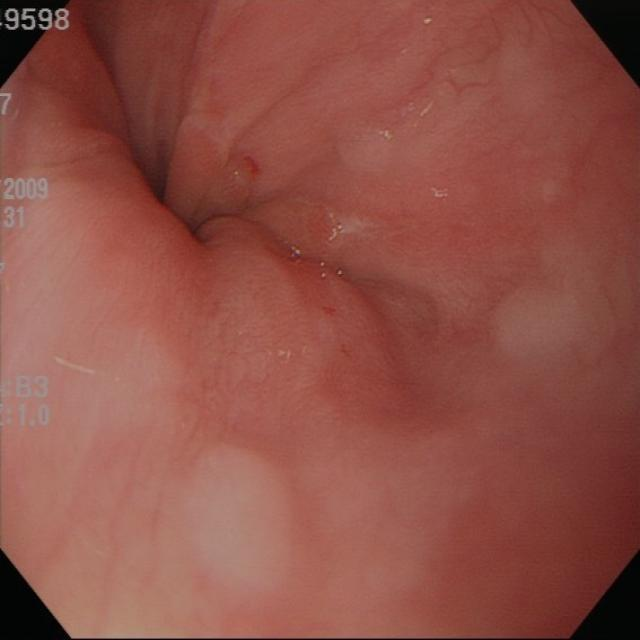C: (244, 154, 261, 176)
D: (312, 288, 417, 419)
I: (87, 79, 279, 292)
S: (2, 375, 53, 429), (2, 8, 72, 34), (2, 176, 51, 202), (4, 206, 28, 230), (2, 92, 14, 119)
U: (328, 223, 344, 243)
